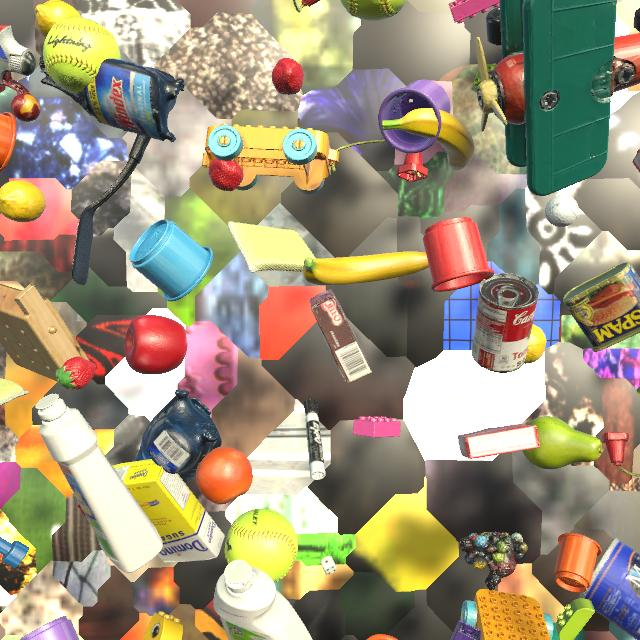ycb_002_master_chef_can: (578, 538, 640, 640)
ycb_004_sugar_box: (113, 459, 225, 563)
ycb_005_tomato_soup_can: (471, 273, 539, 373)
ycb_007_tuna_fish_can: (0, 41, 20, 63)
ycb_008_pudding_box: (310, 289, 372, 383)
ycb_009_gelatin_box: (458, 424, 540, 459), (632, 149, 640, 172)
ycb_010_potted_meat_can: (563, 262, 640, 352)
ycb_011_banana: (381, 108, 475, 170), (303, 252, 429, 286), (637, 387, 640, 395)
ycb_012_strawberry: (56, 356, 96, 390), (272, 58, 304, 95), (209, 158, 244, 191)
ycb_013_apple: (125, 315, 187, 375)
ycb_014_lemon: (0, 180, 46, 222), (35, 0, 81, 37), (524, 324, 546, 364)
ycb_016_pear: (522, 416, 603, 470)
ycb_017_orange: (196, 447, 253, 504)
